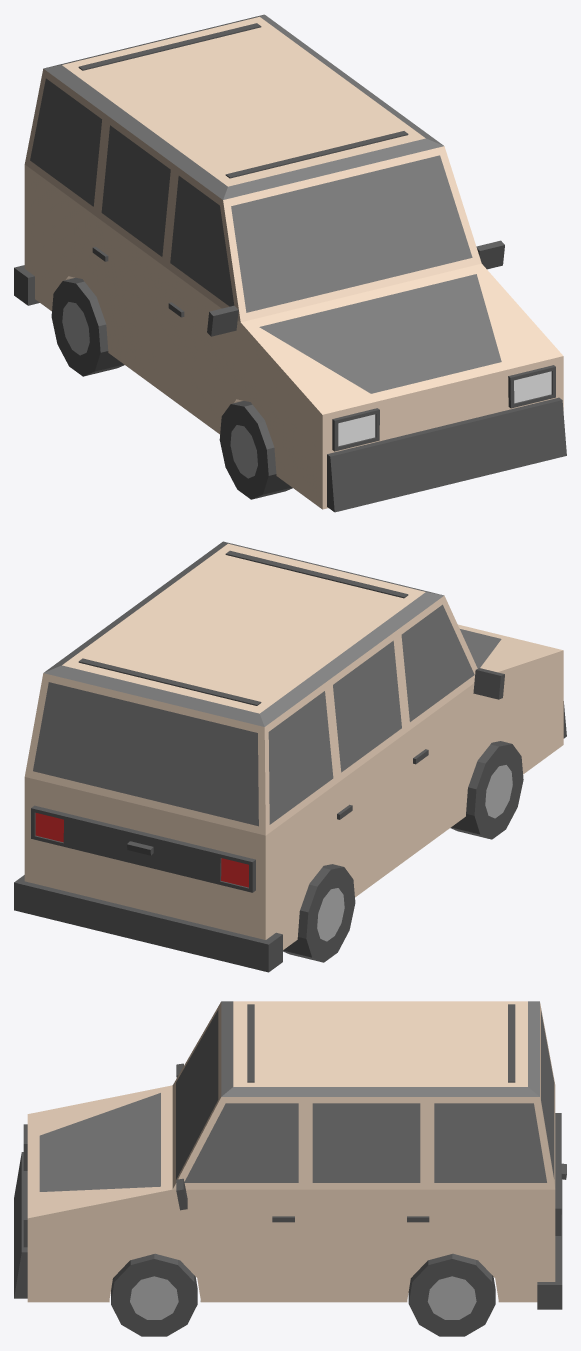
File: SM_Car_08_01.FBX
3 renders of one model, top to bottom at view 1: azimuth 30°, elevation 25°; view 2: azimuth 150°, elevation 25°; view 3: azimuth 270°, elevation 25°, orthographic. The views are drawn at different scales.
Visible parts, largest first — view 1: SM_Car_08_01, SM_Wheel_RBack001, SM_Wheel_LFront002; view 2: SM_Car_08_01, SM_Wheel_LFront002, SM_Wheel_RBack001; view 3: SM_Car_08_01, SM_Wheel_LBack001, SM_Wheel_LFront001.
Part boxes in pixels (x1,y1,x2,y2): SM_Car_08_01: (14, 14, 566, 512); SM_Wheel_RBack001: (51, 277, 124, 376); SM_Wheel_LFront002: (219, 401, 292, 499); SM_Car_08_01: (14, 541, 566, 972); SM_Wheel_LFront002: (450, 741, 523, 839); SM_Wheel_RBack001: (283, 864, 355, 962); SM_Car_08_01: (14, 1001, 566, 1309); SM_Wheel_LBack001: (408, 1253, 495, 1336); SM_Wheel_LFront001: (111, 1253, 197, 1336).
Size of the model in its own units: 1.7 by 1.5 by 3.15.
Materials: 1 (1 with a texture image).
